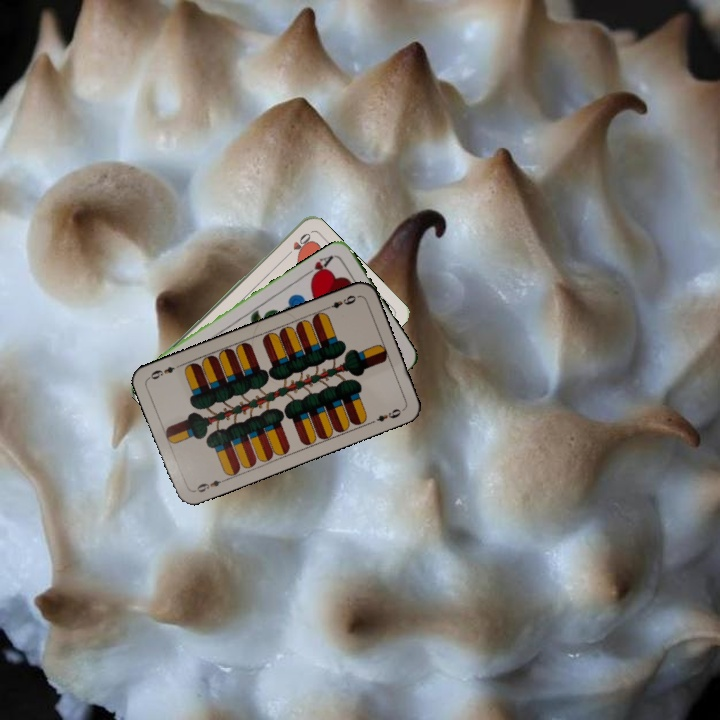E9: (321, 291, 361, 312), (190, 475, 229, 495)
HA: (300, 251, 336, 282)
HO: (281, 229, 313, 260)
